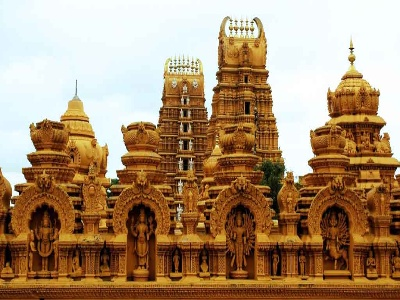gopura: (203, 53, 295, 185), (139, 80, 218, 209)
